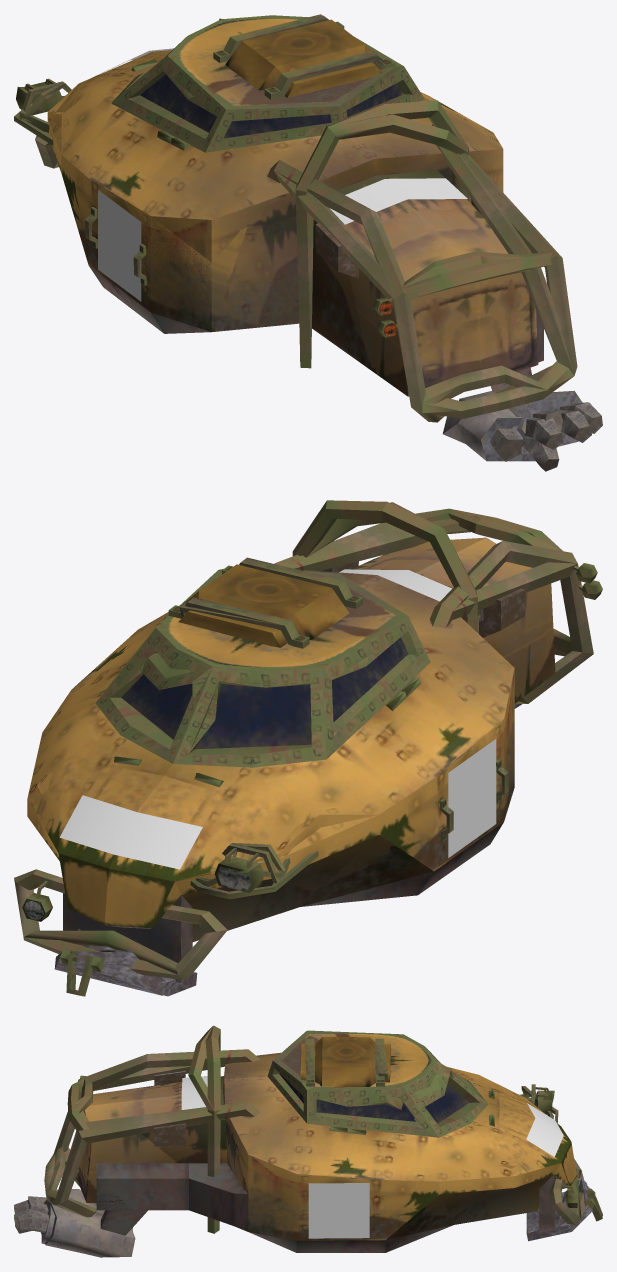
Rendered from cab03.fbx.
3 views of the same model, one above another, from view 1: azimuth 30°, elevation 25°; view 2: azimuth 150°, elevation 25°; view 3: azimuth 270°, elevation 25° (orthographic). The views are drawn at different scales.
Parts seen in each view (by area): view 1: polySurface474_1, polySurface479_1, polySurface506_1, polySurface474_2, polySurface474_3, polySurface479_2, logo_1, polySurface480_1, glass, polySurface482_2, polySurface482_3; view 2: polySurface506_1, polySurface479_1, polySurface474_1, logo_1, polySurface482_2, glass, polySurface474_2, polySurface482_3, polySurface480_1, polySurface479_2; view 3: polySurface506_1, polySurface474_1, polySurface480_1, polySurface474_2, logo_1, polySurface482_3, polySurface474_3, polySurface480_2, polySurface479_1, polySurface482_2.
Boxes of the visible parts, x1,y1,x2,y2 form: polySurface474_1: (267, 100, 591, 454); polySurface479_1: (61, 103, 375, 333); polySurface506_1: (14, 14, 424, 172); polySurface474_2: (274, 114, 602, 438); polySurface474_3: (312, 170, 559, 471); polySurface479_2: (88, 199, 247, 331); logo_1: (94, 48, 467, 301); polySurface480_1: (351, 92, 503, 203); glass: (140, 74, 217, 132); polySurface482_2: (14, 19, 339, 168); polySurface482_3: (19, 15, 403, 129); polySurface506_1: (14, 557, 430, 996); polySurface479_1: (300, 575, 514, 906); polySurface474_1: (274, 500, 602, 703); logo_1: (59, 569, 496, 869); polySurface482_2: (24, 575, 406, 996); glass: (195, 637, 408, 749); polySurface474_2: (276, 502, 582, 653); polySurface482_3: (77, 569, 338, 952); polySurface480_1: (43, 570, 376, 731); polySurface479_2: (434, 719, 513, 870); polySurface506_1: (267, 1030, 602, 1241); polySurface474_1: (14, 1025, 260, 1257); polySurface480_1: (223, 1076, 453, 1252); polySurface474_2: (17, 1026, 248, 1257); logo_1: (181, 1076, 563, 1238); polySurface482_3: (273, 1039, 581, 1237); polySurface474_3: (15, 1076, 225, 1237); polySurface480_2: (227, 1119, 383, 1240); polySurface479_1: (223, 1052, 280, 1086); polySurface482_2: (279, 1060, 592, 1218).
Size of the model in its own units: 2.56 by 2 by 5.32.
